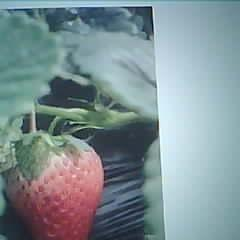straw-ripe: (7, 135, 104, 240)
